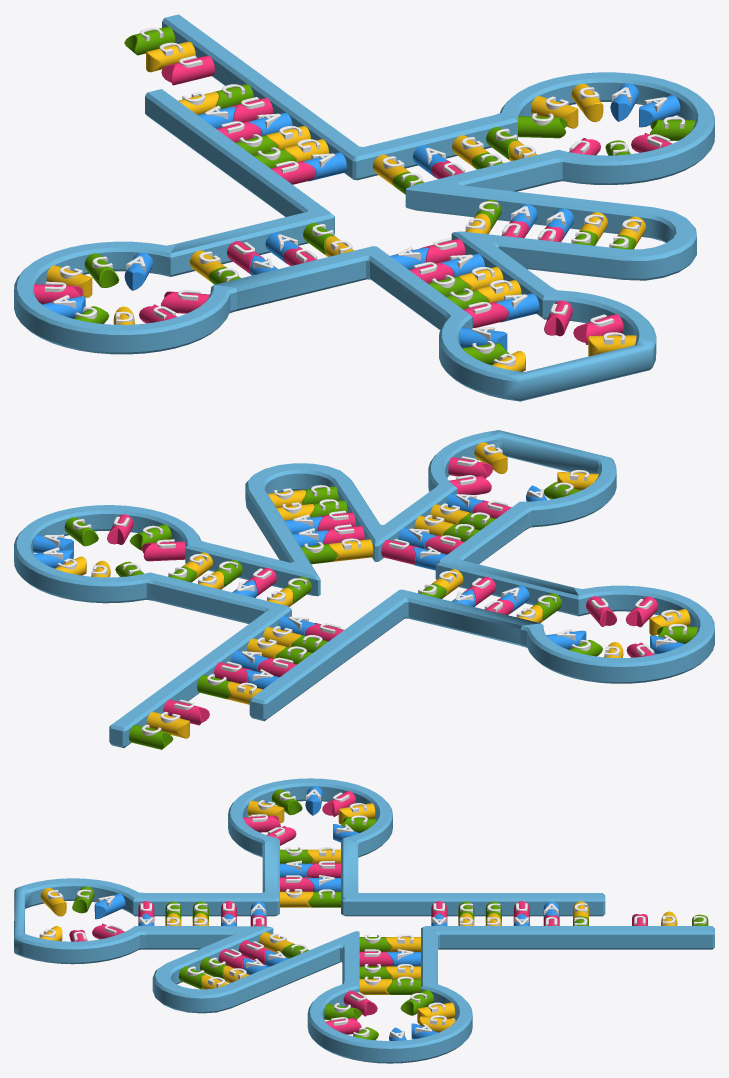
Rendered from trna mode.fbx.
The picture shows the model from 3 angles, top to bottom: view 1: azimuth 30°, elevation 25°; view 2: azimuth 150°, elevation 25°; view 3: azimuth 270°, elevation 25°; orthographic projection. The views are drawn at different scales.
Visible parts, largest first — view 1: TRNA; view 2: TRNA; view 3: TRNA.
Boxes of the visible parts, left/top/right/bottom form: TRNA: left=14, top=14, right=714, bottom=401; TRNA: left=14, top=430, right=714, bottom=749; TRNA: left=14, top=778, right=714, bottom=1063.
Bounding box in the file's own units: 64.7 × 2.05 × 71.25.
